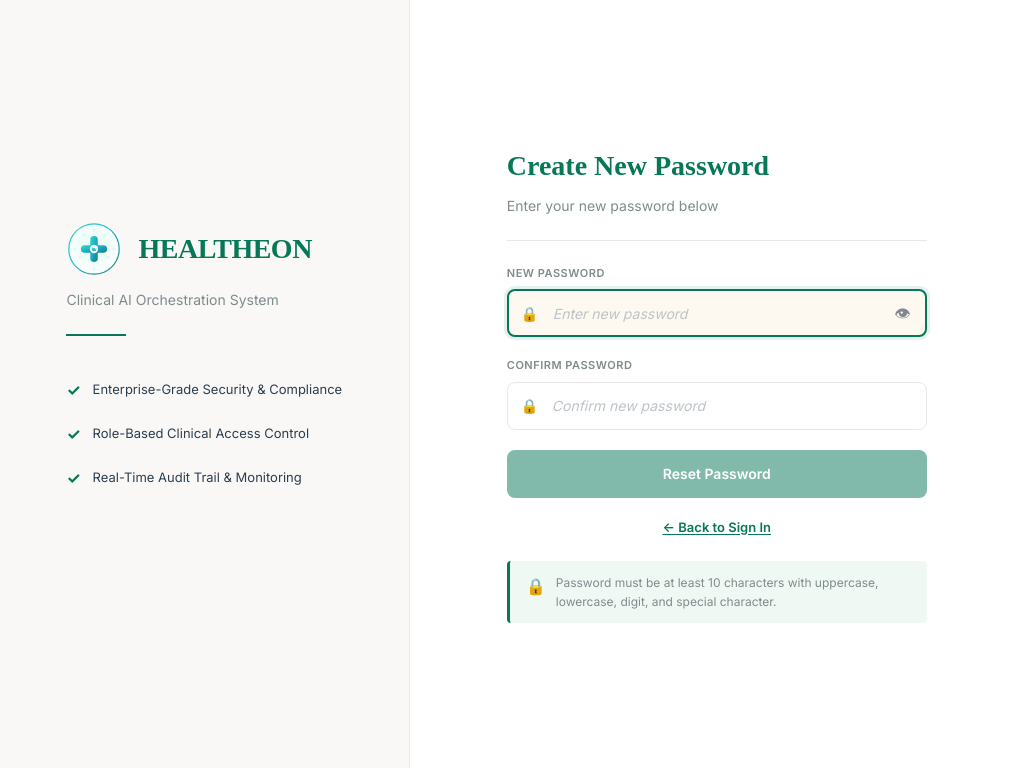
it: ResetPasswordPage › shows password strength indicator when typing
Step 1. Type "abc" into the password field with placeholder "Enter new password" → (717, 313), box [507,289,927,337]
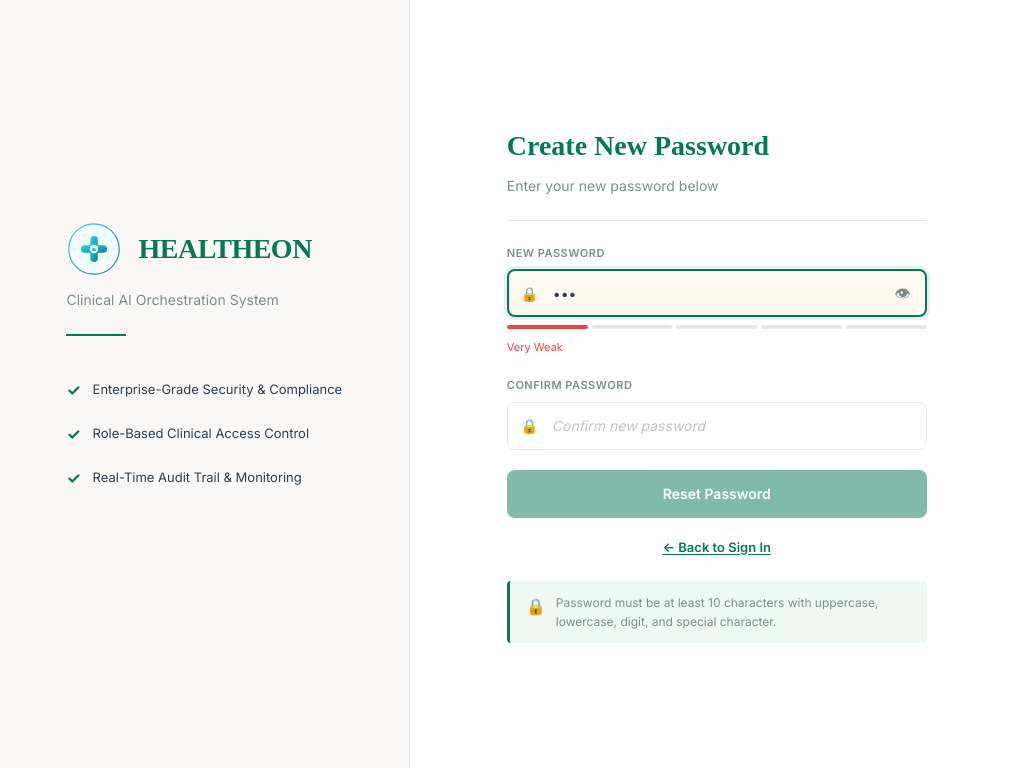
Expected: the text "Very Weak" is shown, [507,340,563,354]
